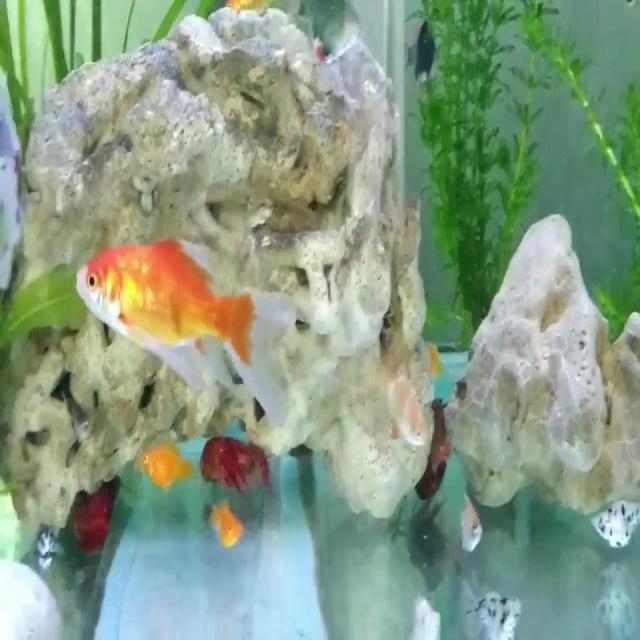GoldFish: (70, 220, 302, 427)
